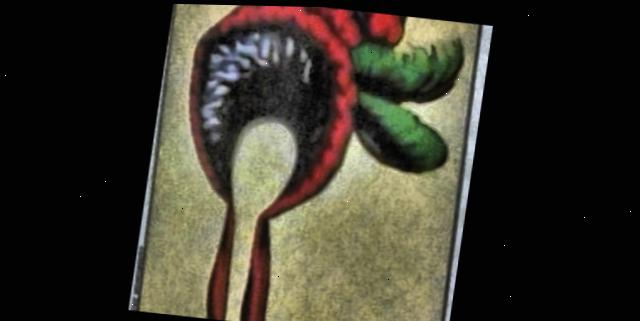El Gorrito: (141, 3, 479, 321)
